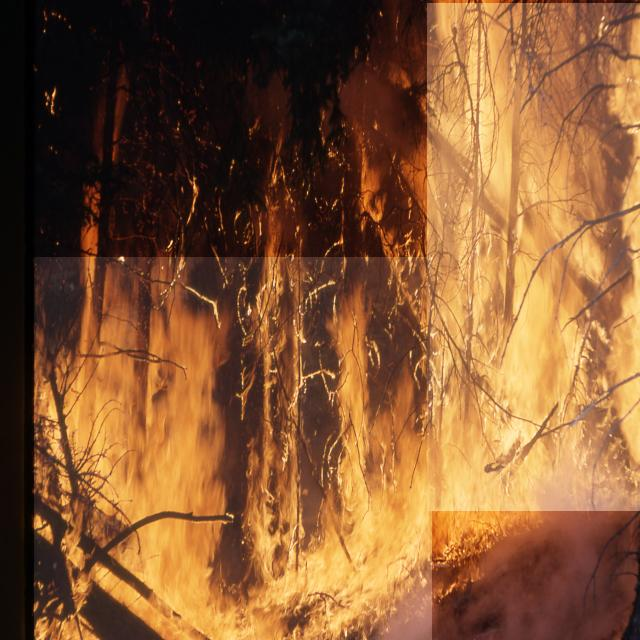Fire: (34, 257, 432, 640), (427, 3, 640, 511)
